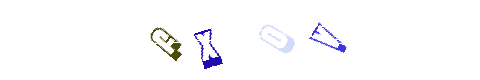0: (200, 0, 280, 80)
F: (130, 0, 210, 80)
V: (209, 0, 289, 80)
X: (189, 0, 269, 80)
